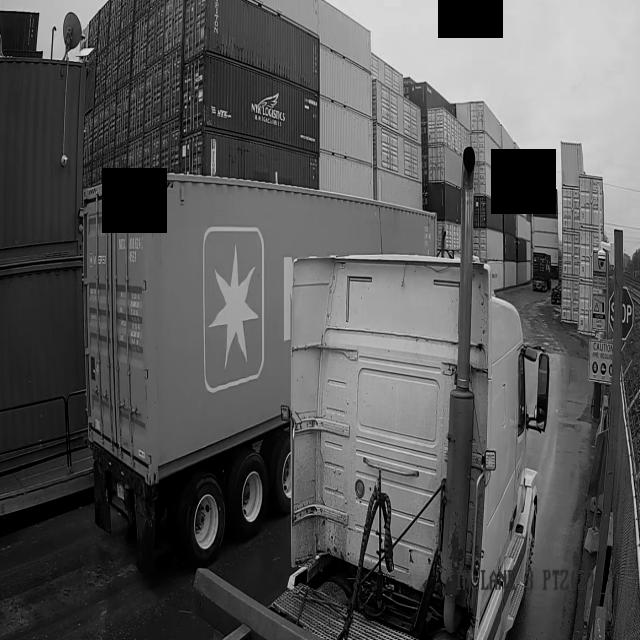truck_cabin: (244, 245, 550, 640)
truck_with_container: (80, 167, 436, 572)
